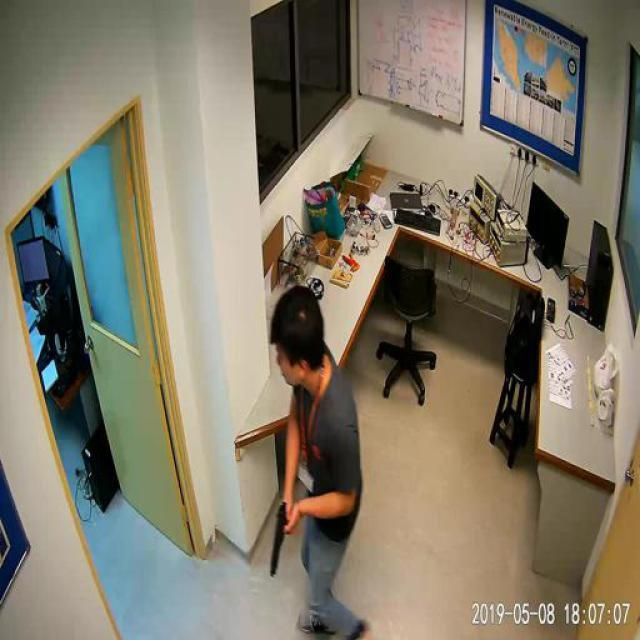weapon: (270, 502, 290, 576)
